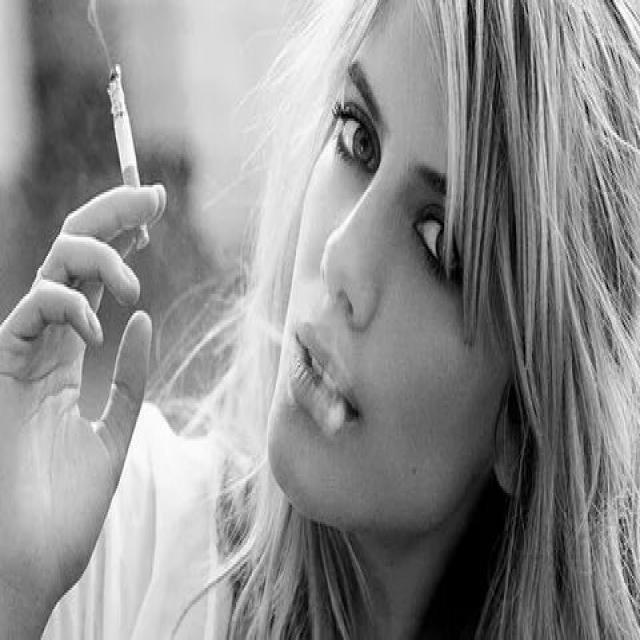cigarette: (105, 57, 155, 256)
